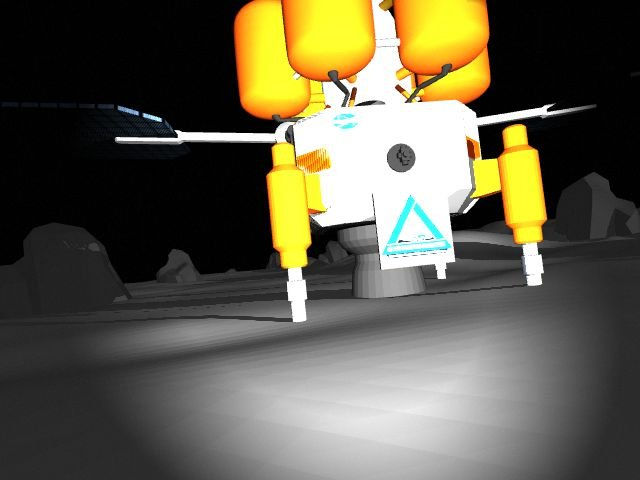basemarker: (381, 195, 454, 260)
